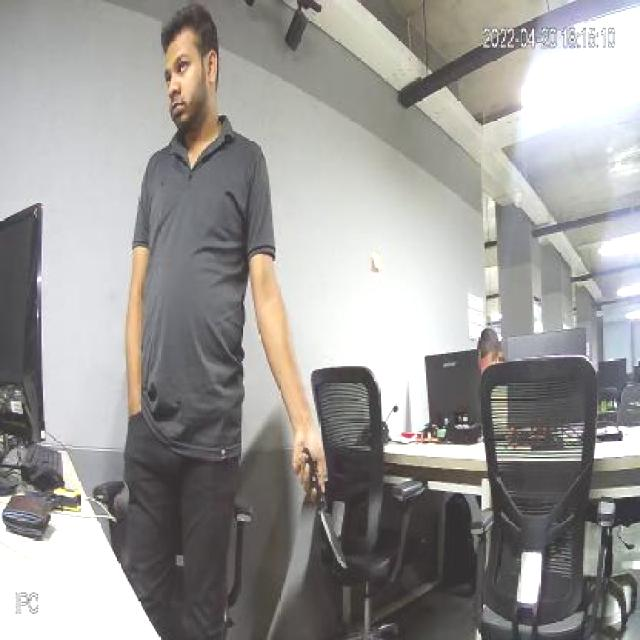knife: (303, 456, 348, 590)
